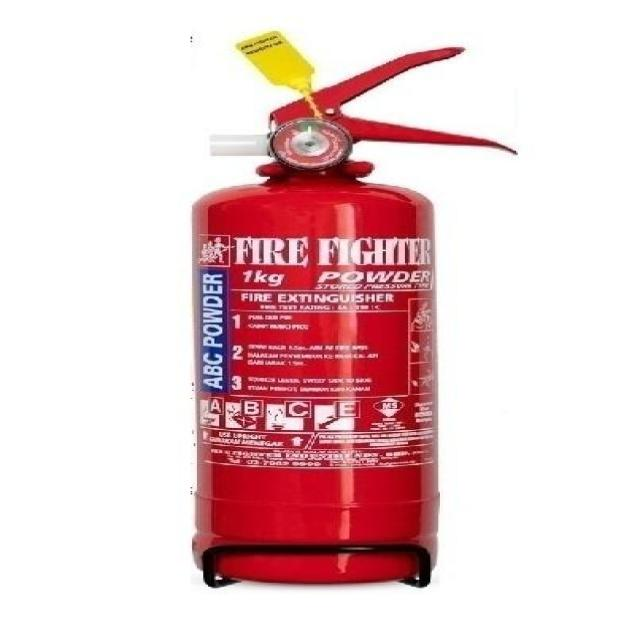fire_extinguisher: (181, 24, 524, 594)
